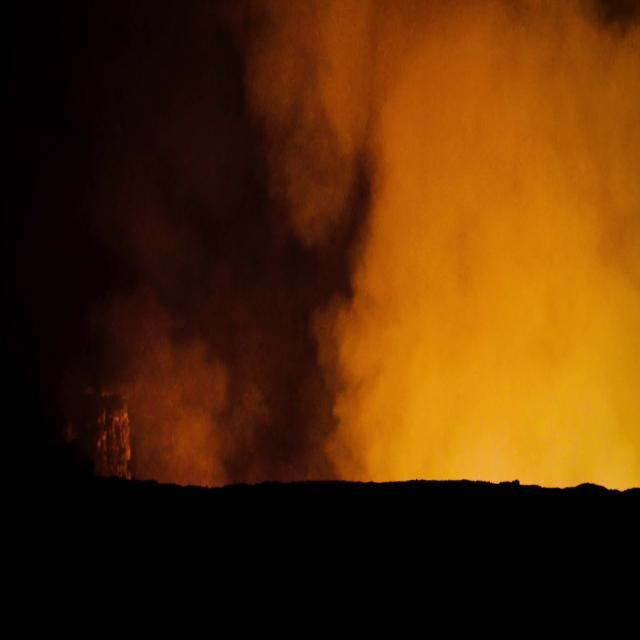Smoke: (307, 0, 639, 468), (73, 282, 282, 491)
